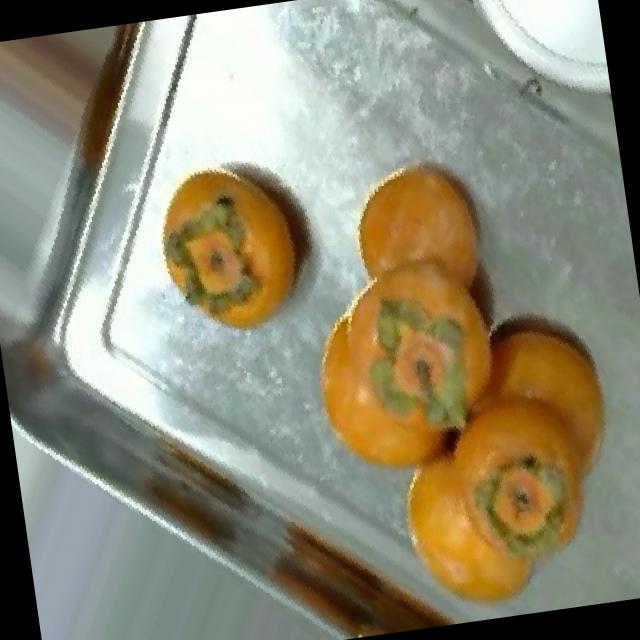Fruit: (115, 110, 355, 366), (314, 128, 514, 335)
